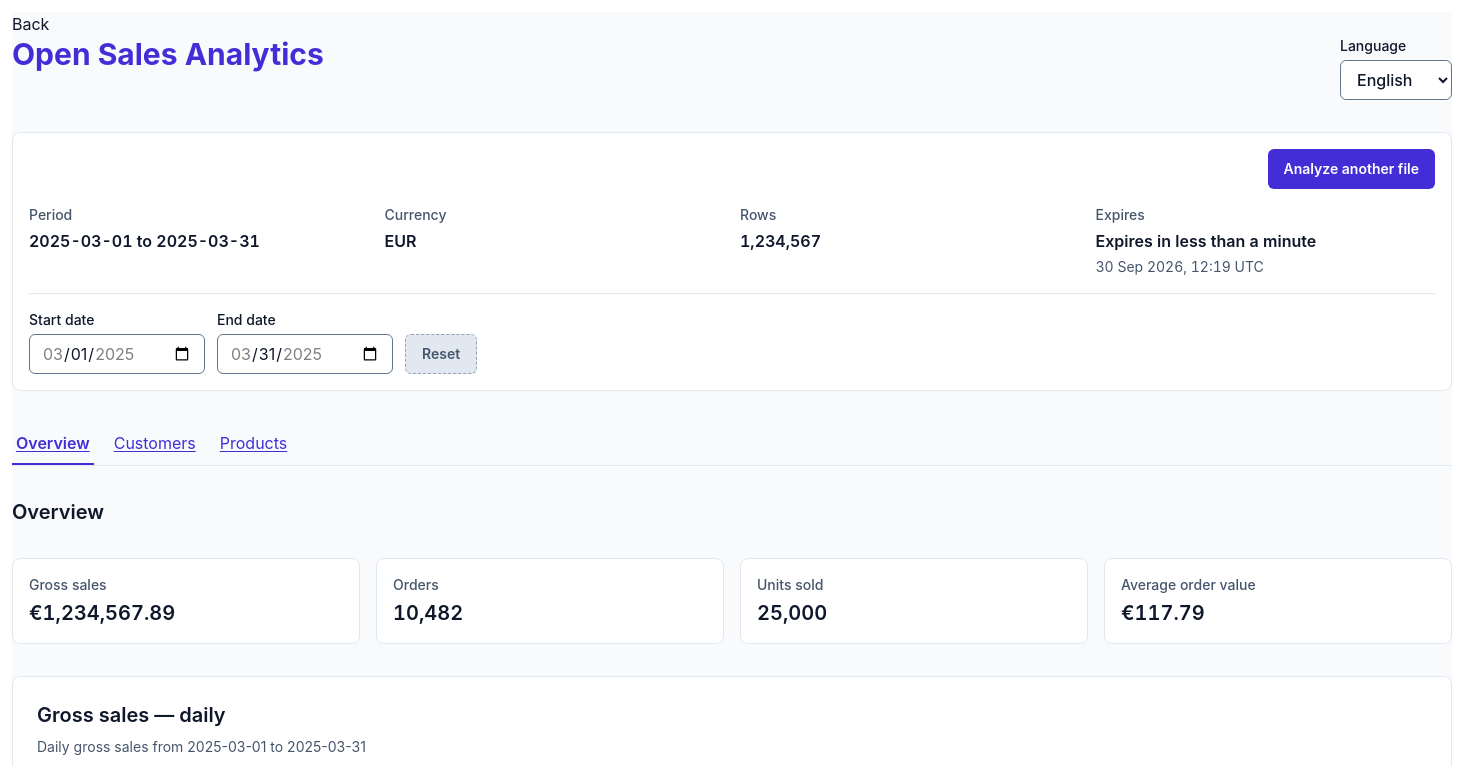
it: a refilled bound is applied like a typed one
The width and height of the screenshot is (1464, 766).
Expected: the text "10,482" is shown, [393, 601, 463, 625]
Type "2025-03-10" into the date field labelled "Start date".
click(117, 354); type("2025-03-10")  # box [29, 334, 205, 374]
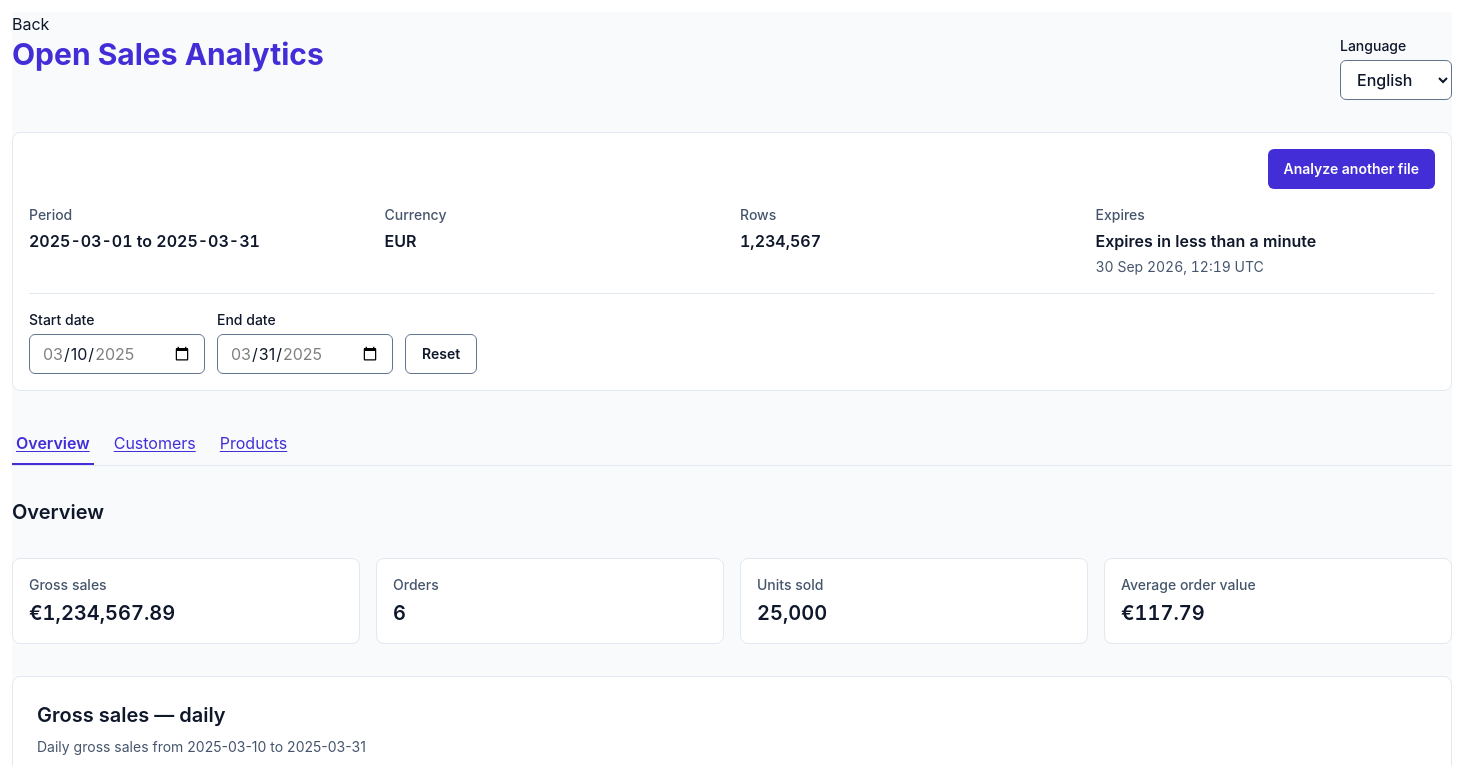
Clear the date field labelled "Start date" at (117, 354), box [29, 334, 205, 374]
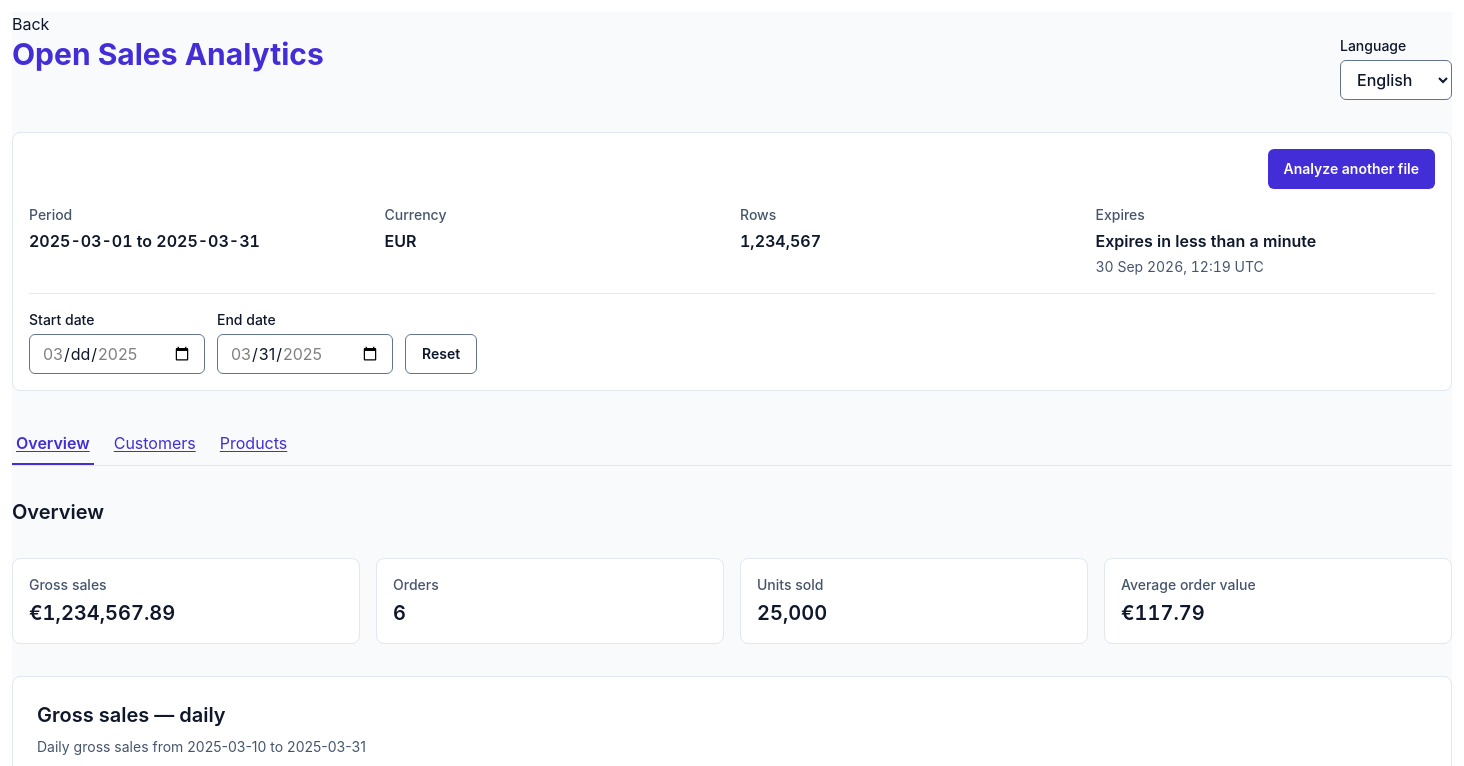
Leave the date field labelled "Start date", box [29, 334, 205, 374]
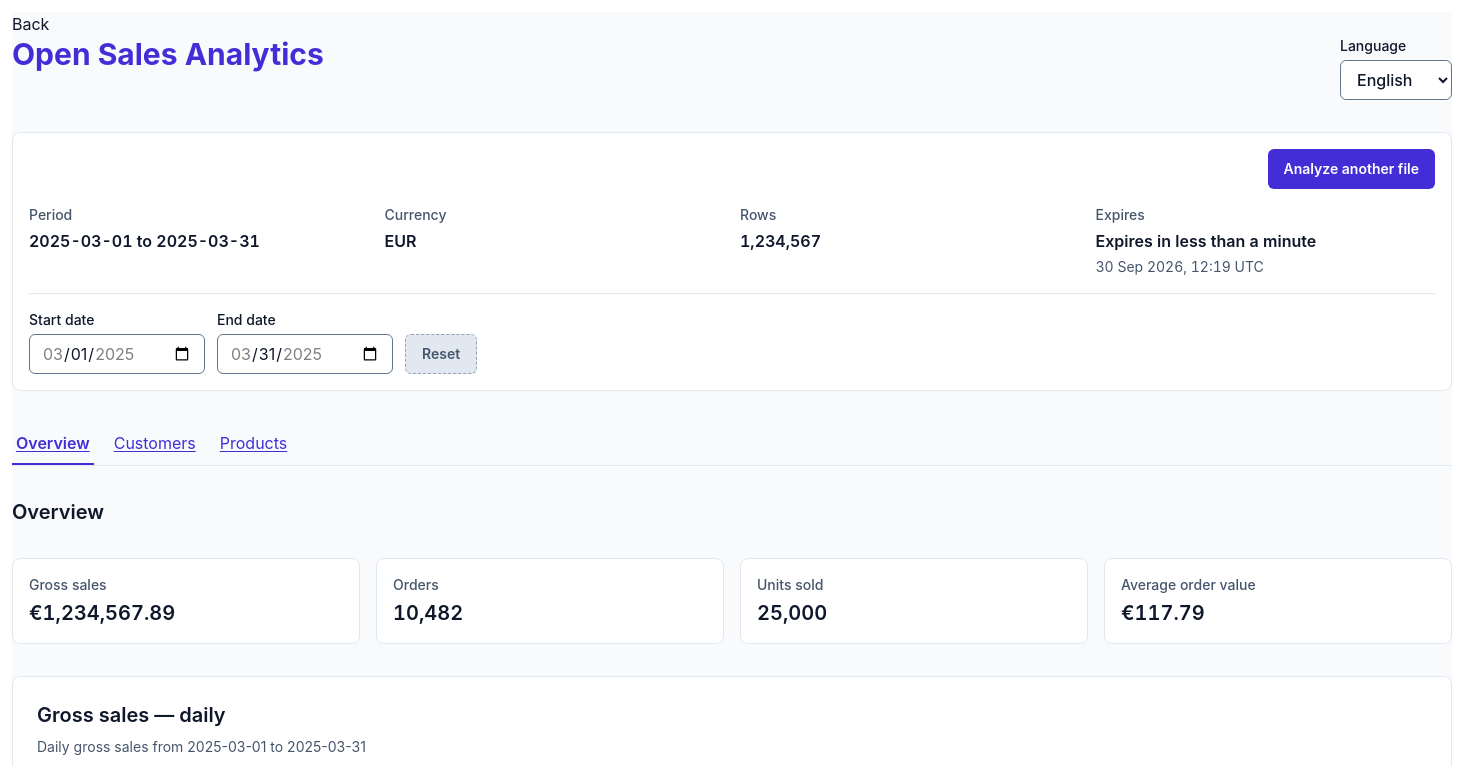
Expected: the date field labelled "End date" holds "2025-03-31", [217, 334, 393, 374]
Now the date field labelled "Start date" holds "2025-03-01", box [29, 334, 205, 374]
Now the text "10,482" is shown, box [393, 601, 463, 625]
